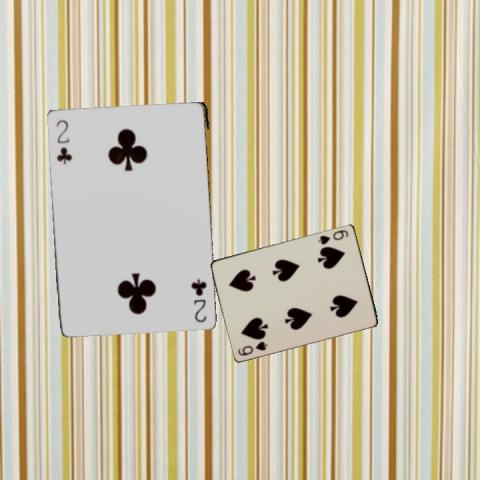2c: (53, 116, 73, 165), (192, 275, 208, 324)
6s: (315, 227, 350, 246), (236, 338, 270, 357)
